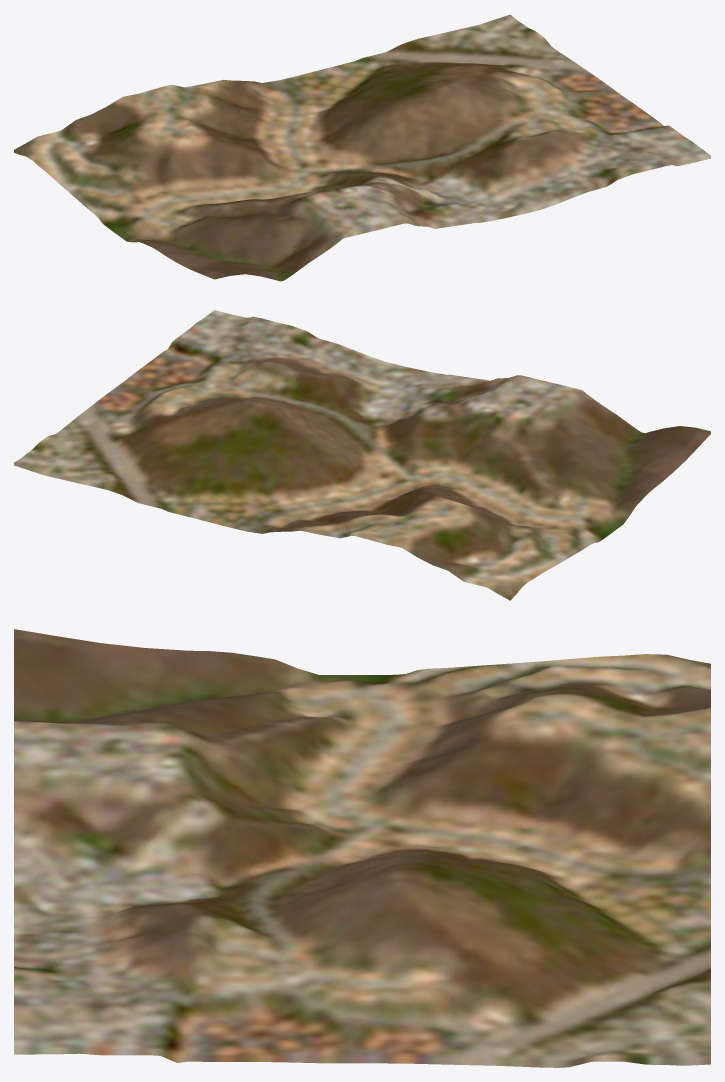
The model's file is terrain_r6_c6_lod1.glb.
3 renders of one model, top to bottom at view 1: azimuth 30°, elevation 25°; view 2: azimuth 150°, elevation 25°; view 3: azimuth 270°, elevation 25°, orthographic. The views are drawn at different scales.
Visible parts, largest first — view 1: terrain_r6_c6_lod1; view 2: terrain_r6_c6_lod1; view 3: terrain_r6_c6_lod1.
Boxes of the visible parts, x1,y1,x2,y2 form: terrain_r6_c6_lod1: (14,14,710,281); terrain_r6_c6_lod1: (14,310,710,600); terrain_r6_c6_lod1: (14,629,710,1067).
Size of the model in its own units: 1125 by 118 by 787.
1 material, 1 textured.
